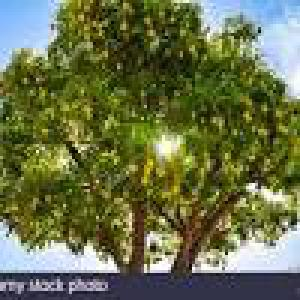Tree: (9, 3, 291, 267)
